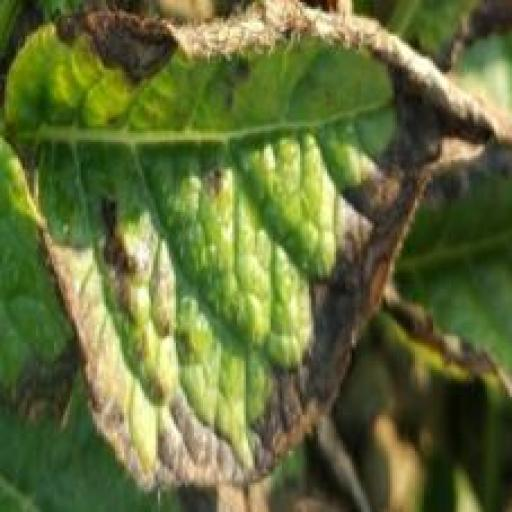Late Blight: (2, 0, 512, 496)
